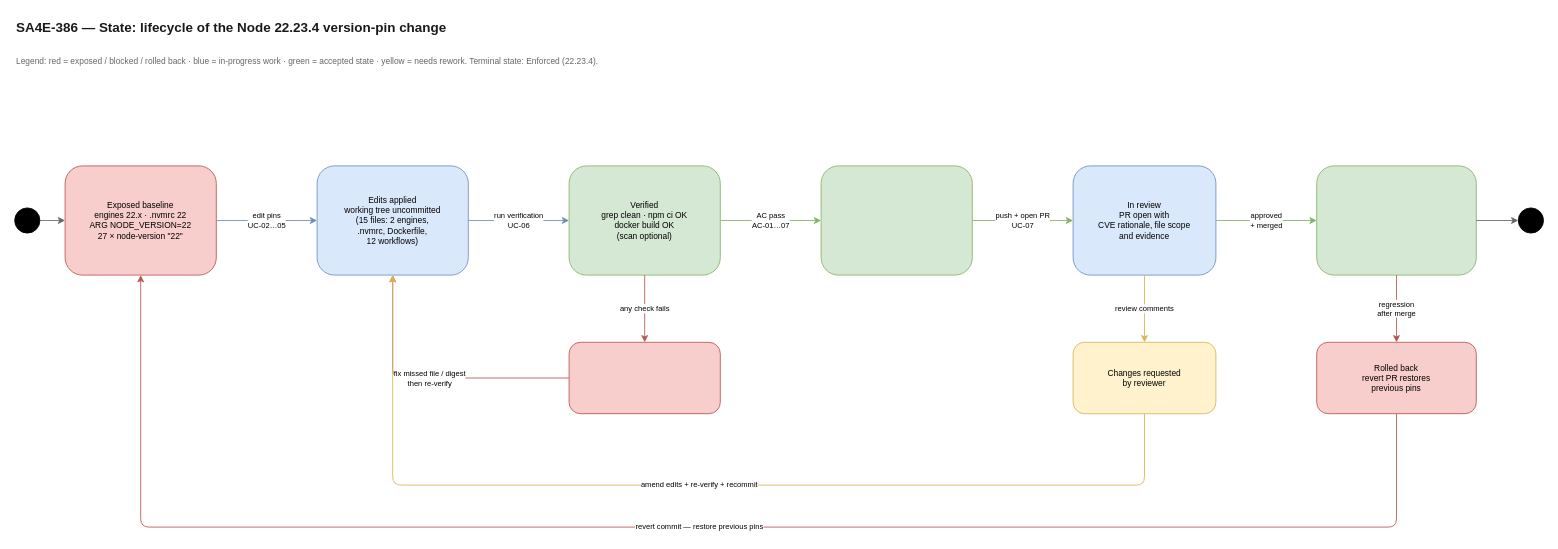
Image size: 1558x549. Some labels were removed from this diagram. Each missing label, with the box of its shape:
Blocked verification failed commit not permitted: (568, 341, 720, 414)
Committed branch node-security-upgrade explicit staging conventional message: (820, 165, 972, 275)
Enforced merged — 22.23.4 pinned local = CI = container CVE-2026-111497 patched: (1316, 165, 1476, 275)
